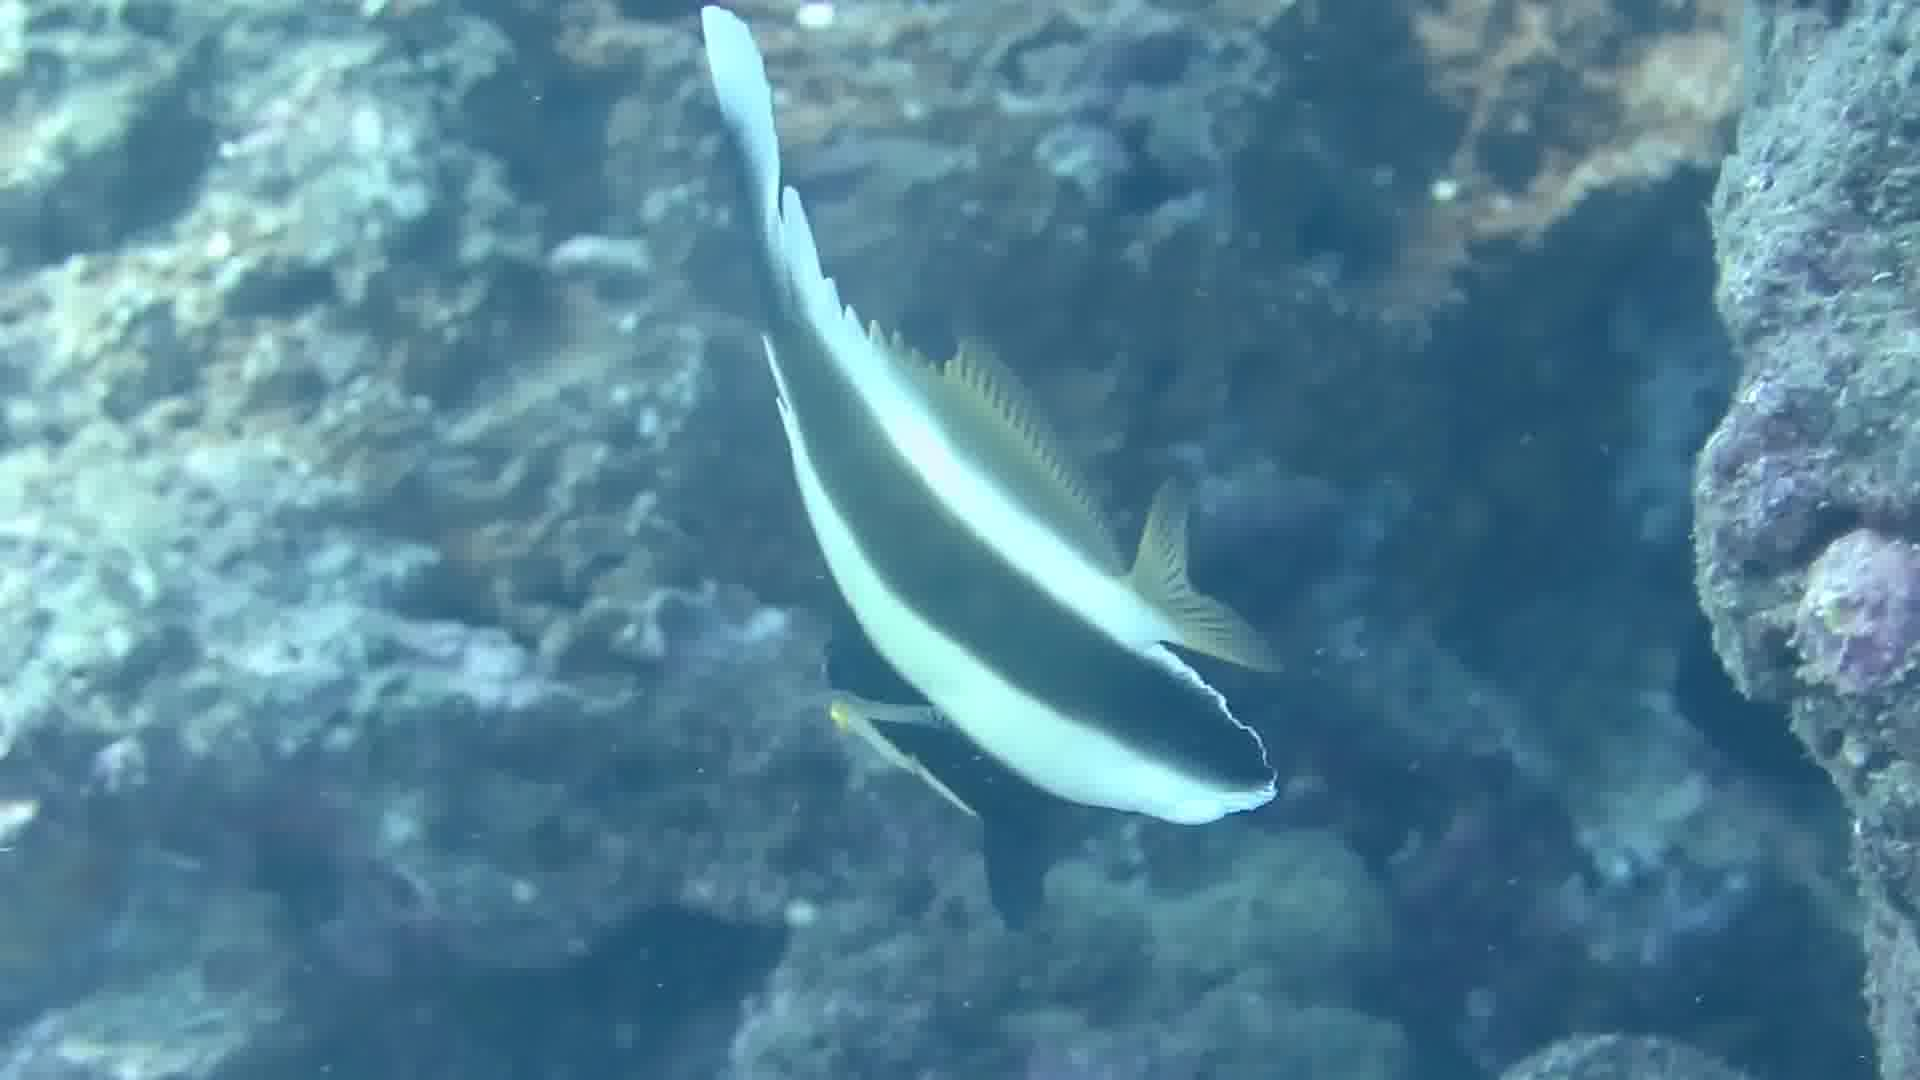Heniochus chrysostomus: (578, 25, 1331, 893)
